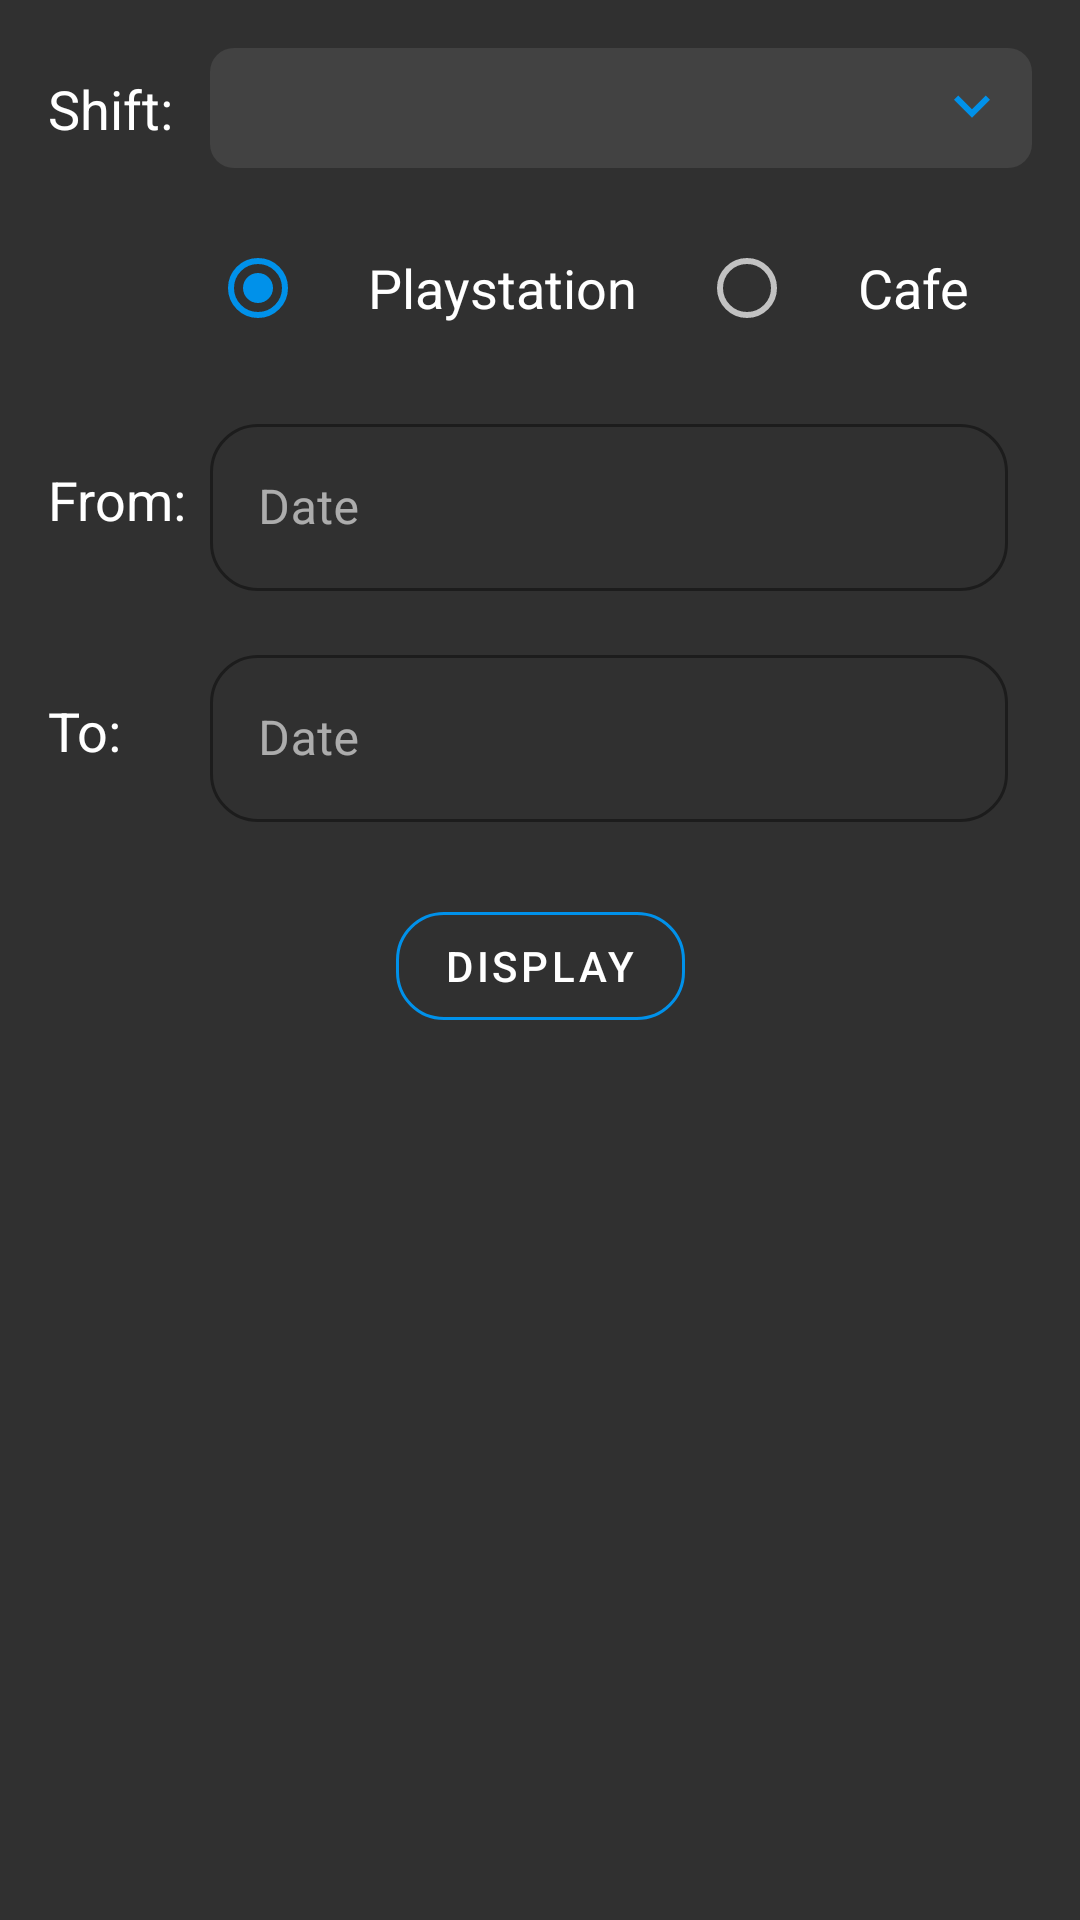

Where icons sit on this 1080 x 1920 app screen, as (x1, y1, x2, y2):
spinner arrow down: (954, 95, 990, 118)
